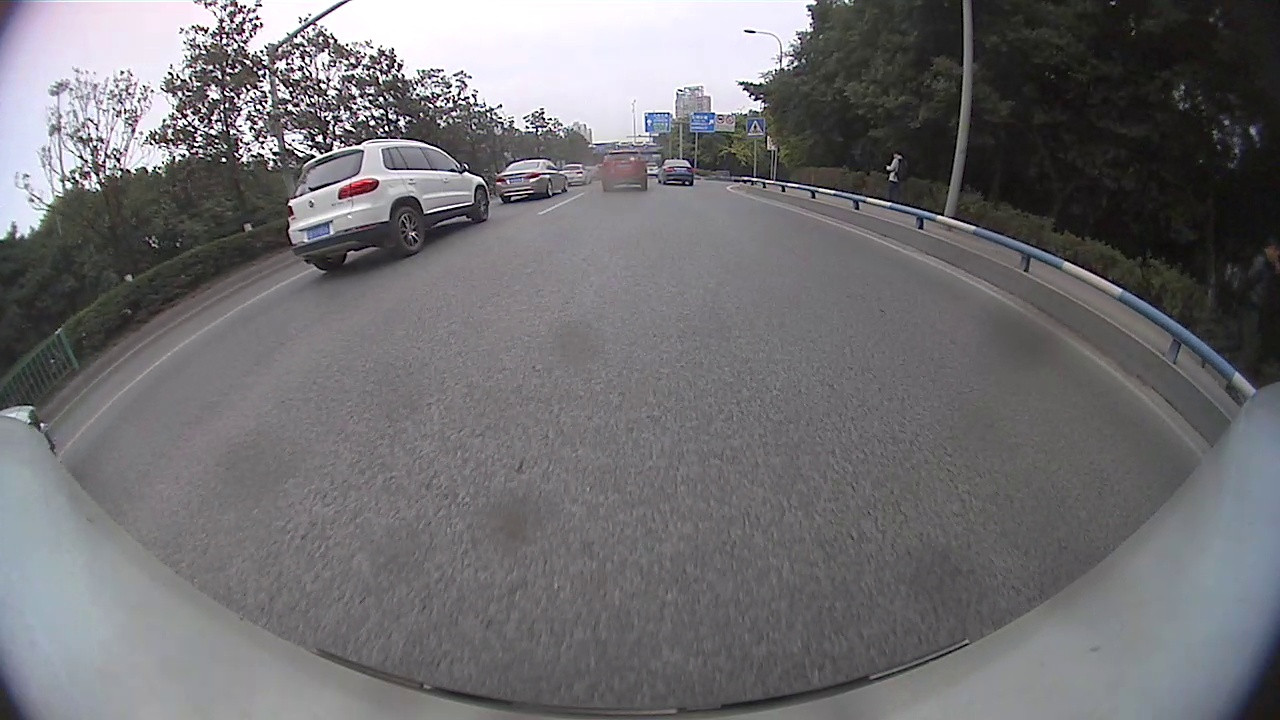car: (285, 137, 491, 271), (493, 157, 569, 204), (1, 403, 58, 458), (600, 148, 649, 193), (656, 157, 695, 186)
person: (1252, 238, 1279, 389), (892, 149, 904, 205)
